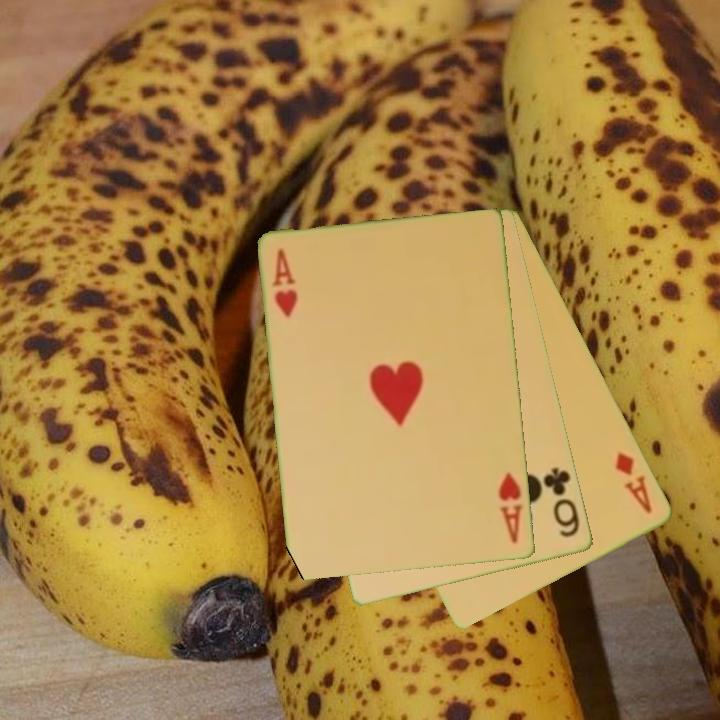6c: (540, 464, 583, 541)
Ad: (612, 448, 656, 517)
Ah: (495, 469, 526, 547), (269, 246, 301, 321)
